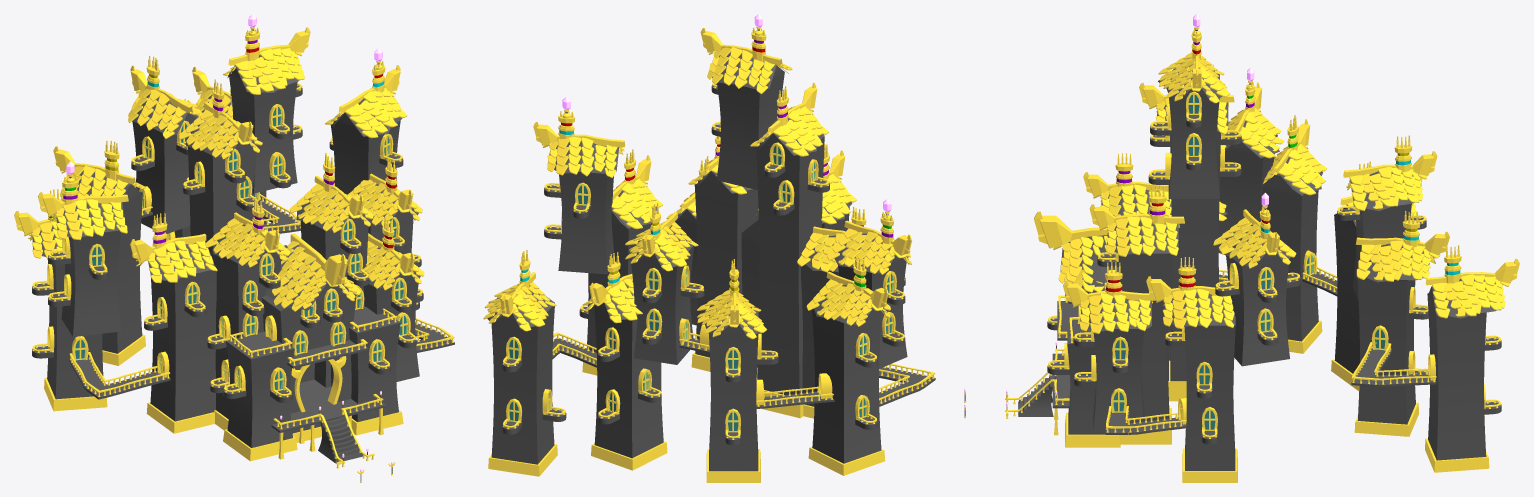
Rendered from mage_buildingset1.fbx.
3 renders of one model, left to right at view 1: azimuth 30°, elevation 25°; view 2: azimuth 150°, elevation 25°; view 3: azimuth 270°, elevation 25°, orthographic. The views are drawn at different scales.
Parts seen in each view (by area): view 1: mage_buildingset1, roof_shingles, roof_tops, windows, railing, roof_covers, windows_glass, frontdoor; view 2: mage_buildingset1, roof_shingles, roof_tops, windows, railing, roof_covers, windows_glass; view 3: mage_buildingset1, roof_shingles, roof_tops, railing, windows, roof_covers, windows_glass.
Part boxes in pixels (x1,y1,x2,y2): mage_buildingset1: (32, 68, 454, 463); roof_shingles: (24, 48, 424, 311); roof_tops: (14, 14, 415, 285); windows: (47, 104, 410, 392); railing: (32, 83, 454, 482); roof_covers: (30, 55, 420, 310); windows_glass: (65, 107, 407, 389); frontdoor: (291, 356, 346, 412); mage_buildingset1: (488, 66, 935, 482); roof_shingles: (483, 47, 911, 339); roof_tops: (500, 14, 912, 324); windows: (506, 142, 896, 432); railing: (503, 83, 935, 439); roof_covers: (487, 52, 909, 337); windows_glass: (509, 146, 893, 430); mage_buildingset1: (1018, 73, 1501, 482); roof_shingles: (1053, 53, 1509, 333); roof_tops: (1034, 14, 1519, 304); railing: (964, 111, 1500, 438); windows: (1064, 91, 1485, 431); roof_covers: (1060, 63, 1496, 331); windows_glass: (1114, 95, 1384, 429).
Bounding box in the file's own units: 59.63 × 58.83 × 75.82.
